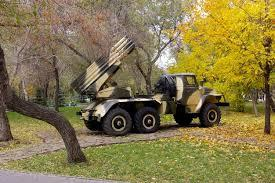MIL_SAM_TEL: (71, 34, 224, 133)
